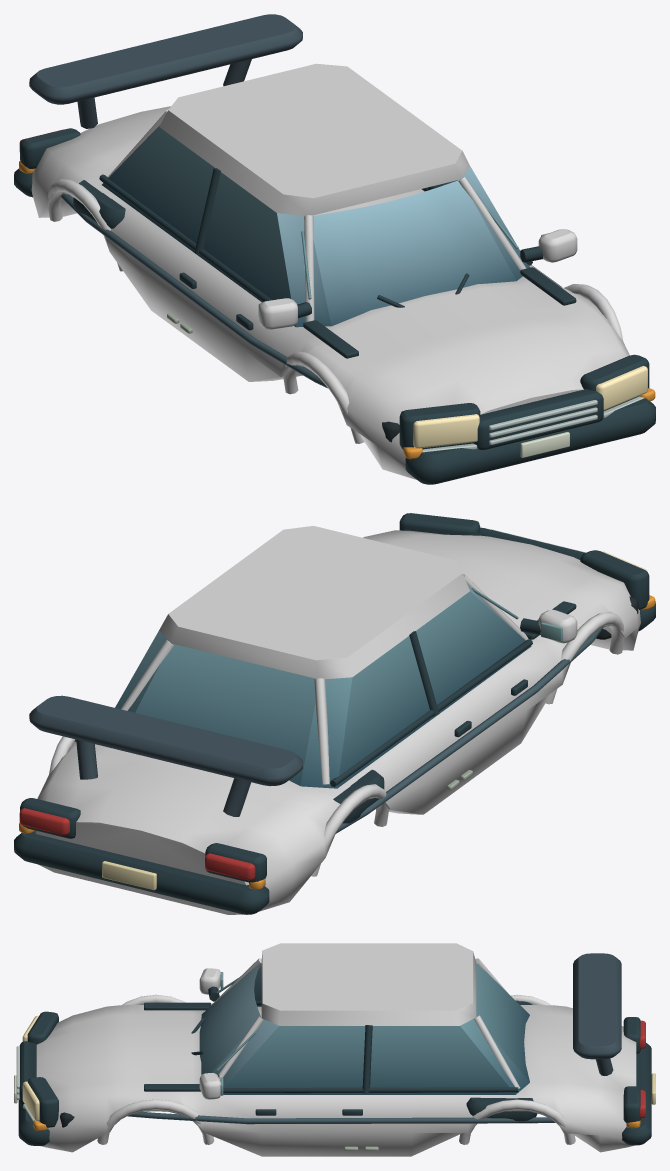
File: akari.glb
The picture shows the model from 3 angles, top to bottom: view 1: azimuth 30°, elevation 25°; view 2: azimuth 150°, elevation 25°; view 3: azimuth 270°, elevation 25°; orthographic projection. The views are drawn at different scales.
Visible parts, largest first — view 1: Chassis, Headlamps; view 2: Chassis, BrakeLamps; view 3: Chassis, Headlamps, BrakeLamps.
Boxes of the visible parts, x1,y1,x2,y2 form: Chassis: (14, 14, 655, 484); Headlamps: (413, 366, 647, 448); Chassis: (14, 513, 655, 914); BrakeLamps: (19, 808, 255, 880); Chassis: (14, 943, 655, 1156); Headlamps: (22, 1015, 39, 1121); BrakeLamps: (640, 1020, 645, 1118).
Bounding box in the file's own units: 1.89 × 0.9928 × 4.37.
